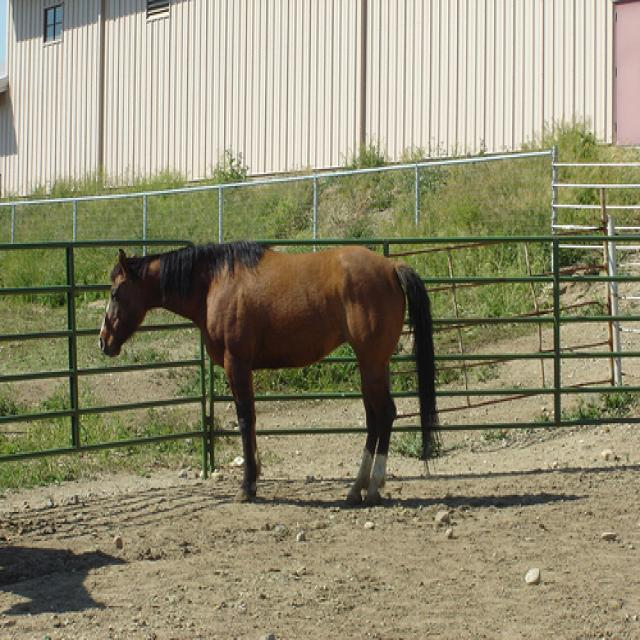horse: (99, 242, 442, 517)
